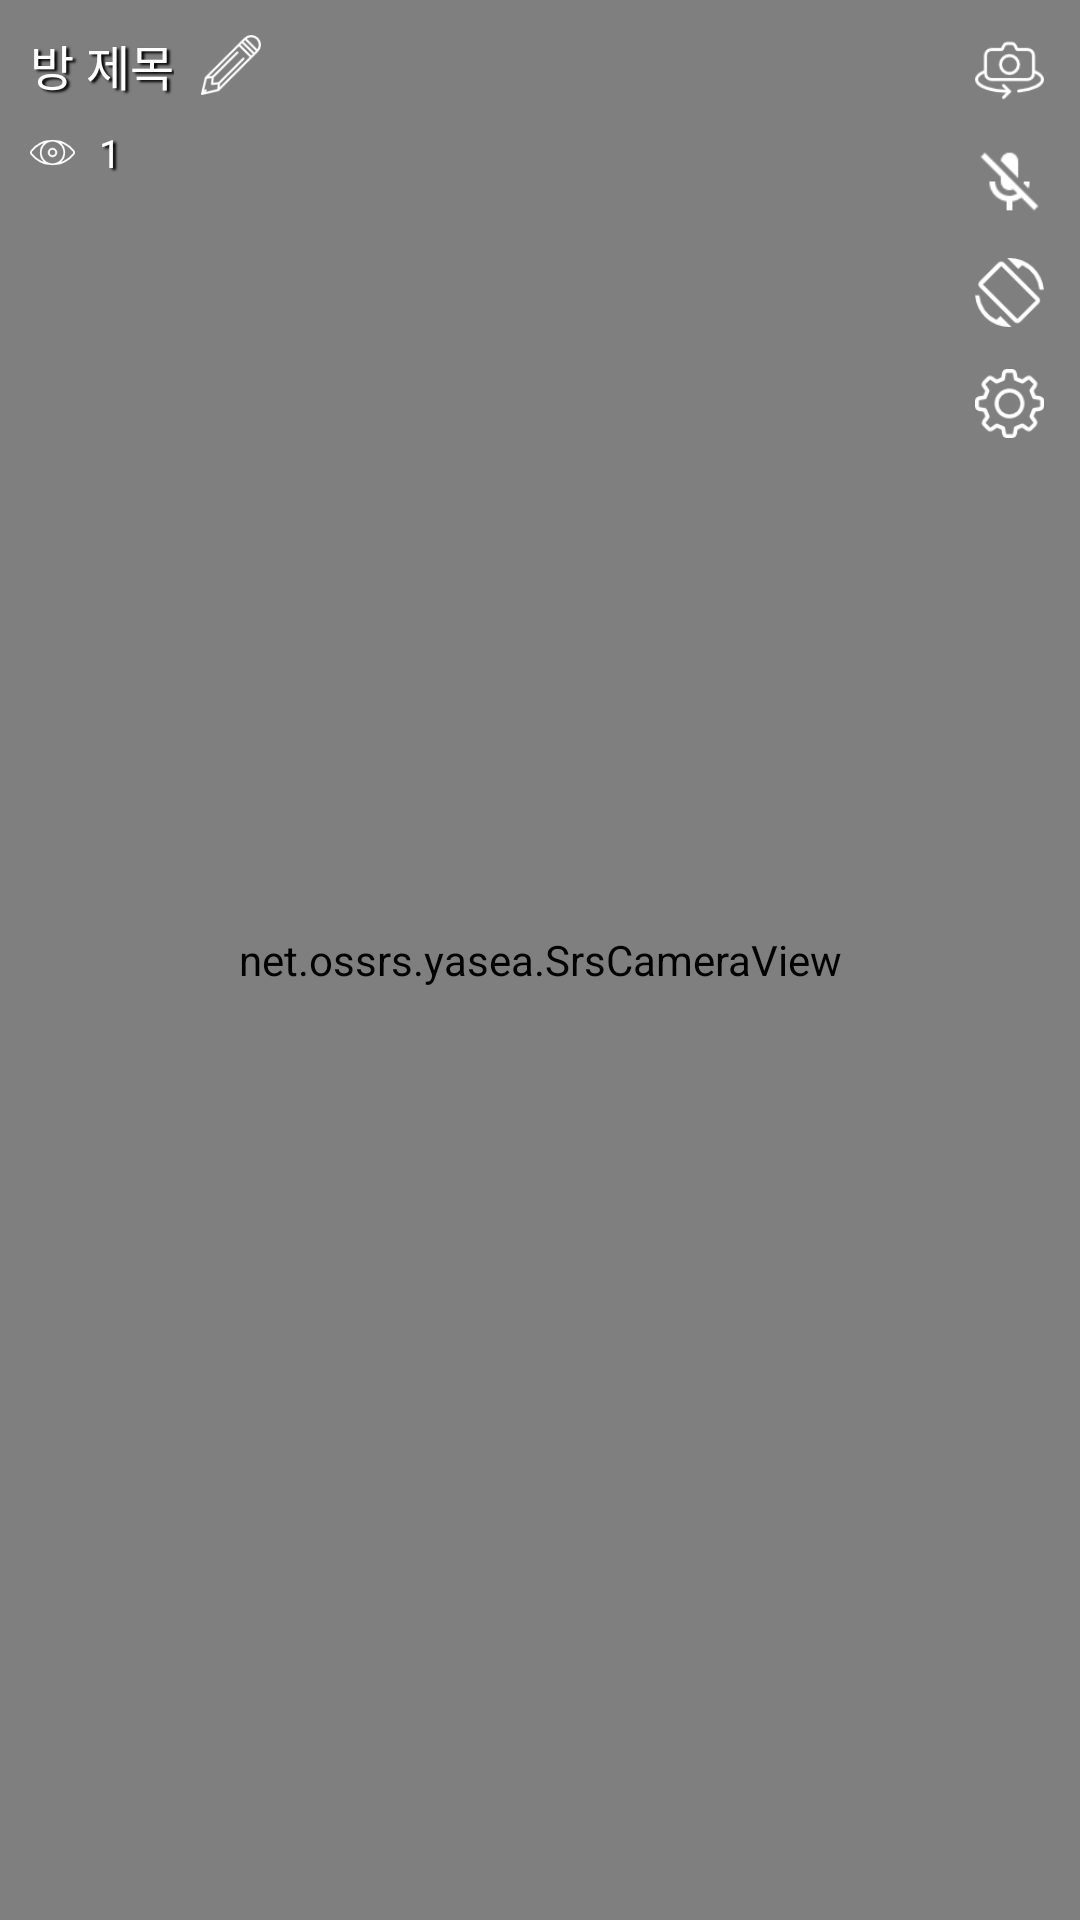

Named icons in this screenshot (1080 x 1920) and their bounding boxes, (x1, y1, x2, y2):
eye: (30, 140, 75, 165)
mute on: (981, 152, 1038, 211)
pencil: (201, 35, 261, 95)
rot camera: (975, 41, 1044, 99)
rotation: (975, 258, 1044, 327)
setting: (975, 369, 1044, 438)
